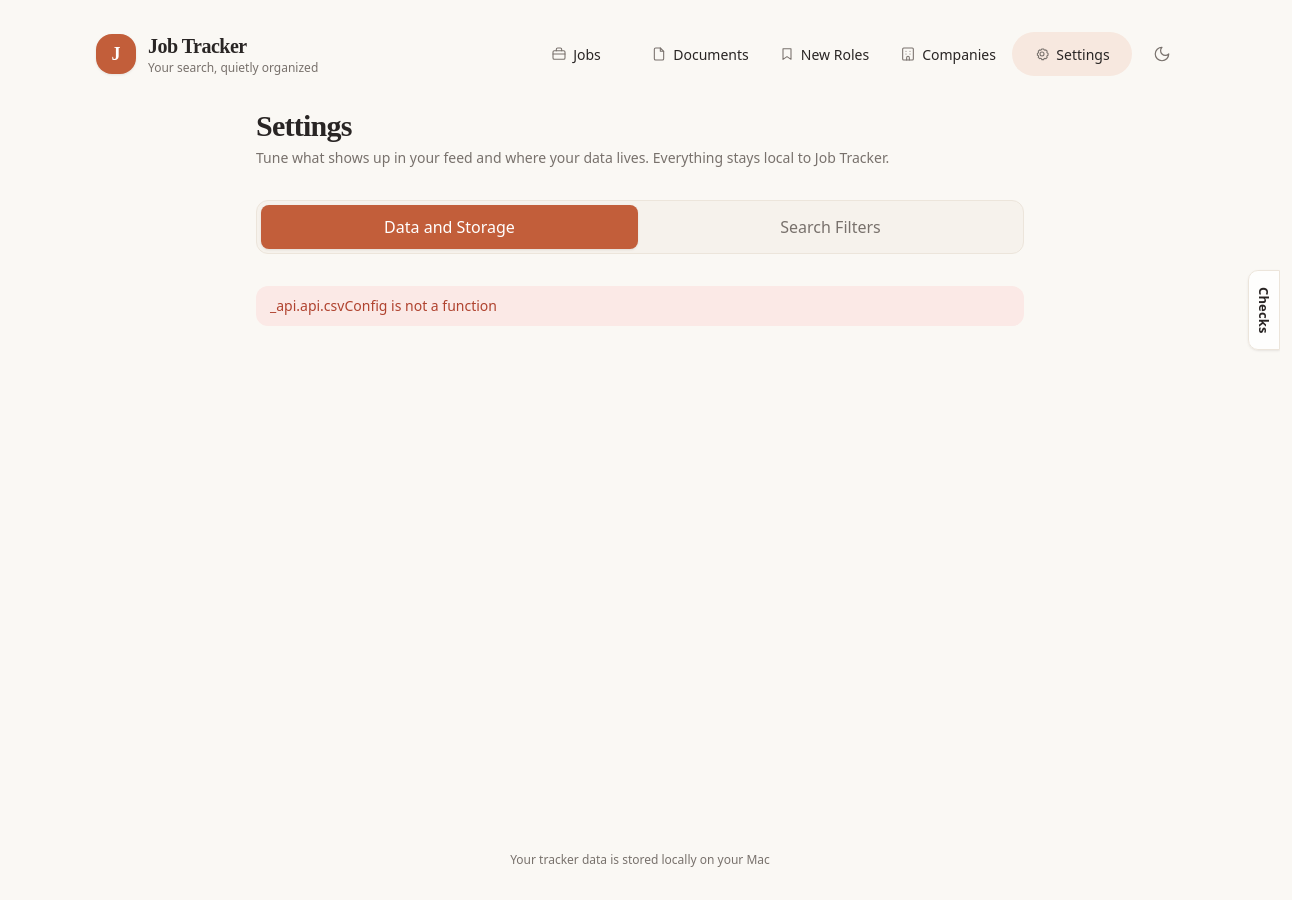
it: top navigation while a posting run is displayed › keeps error notices visible in the header when the run panel is hidden
Click the button "Checks".
click(1264, 310)  # box [1248,270,1280,350]
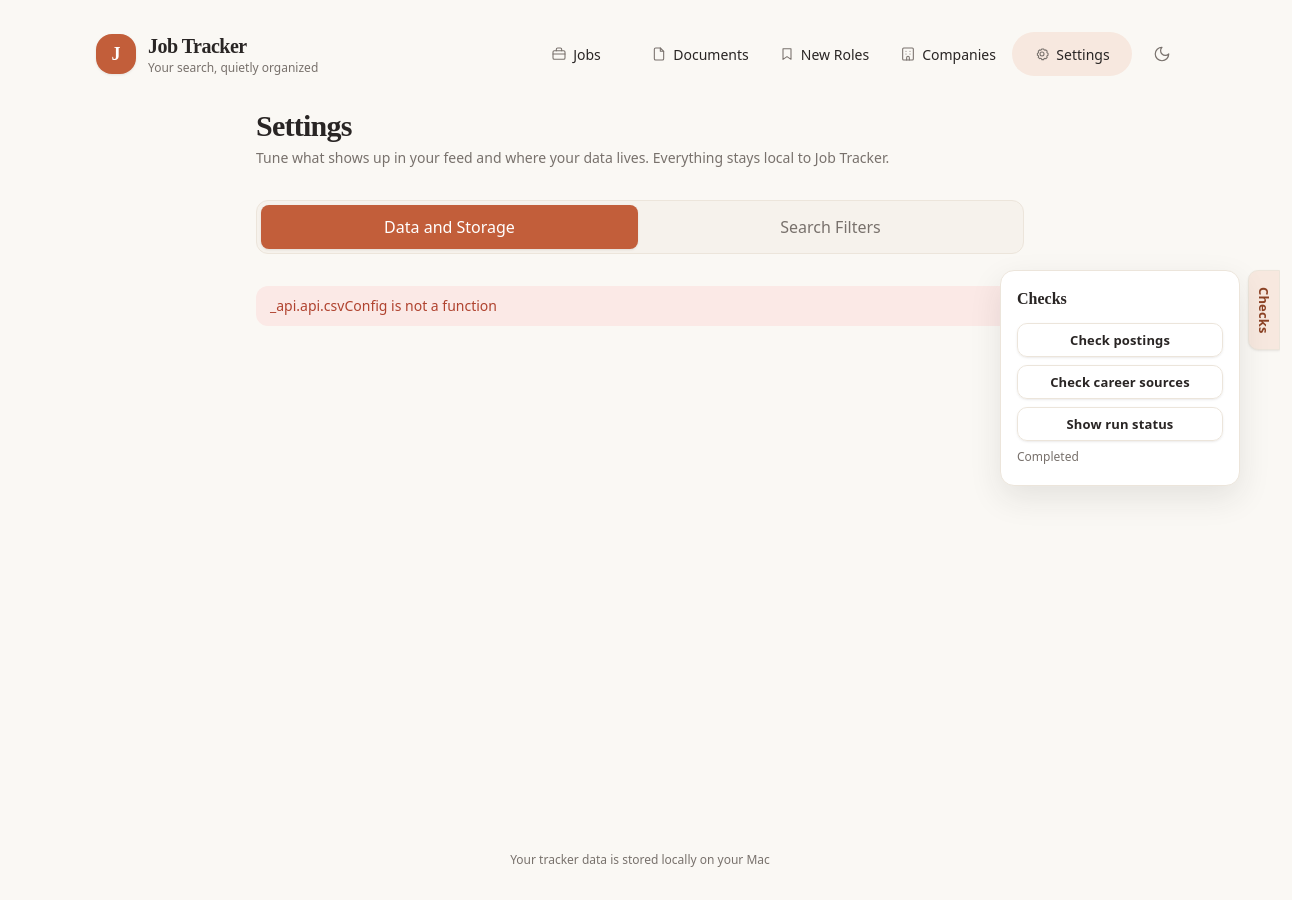
Click the button "Show run status".
click(1120, 424)  # box [1017,407,1223,441]
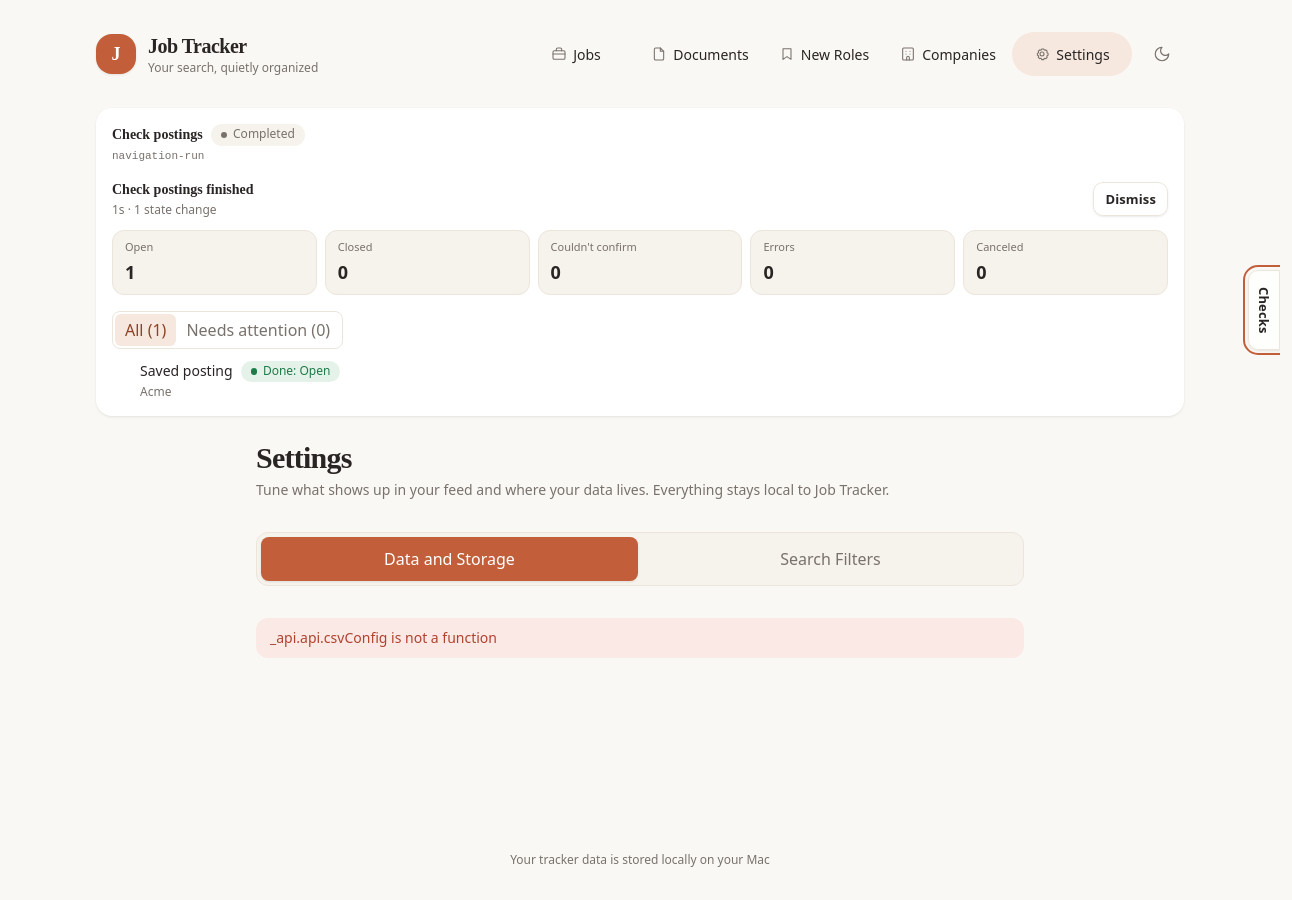
Click the link to "/documents".
click(700, 54)  # box [651,44,749,64]
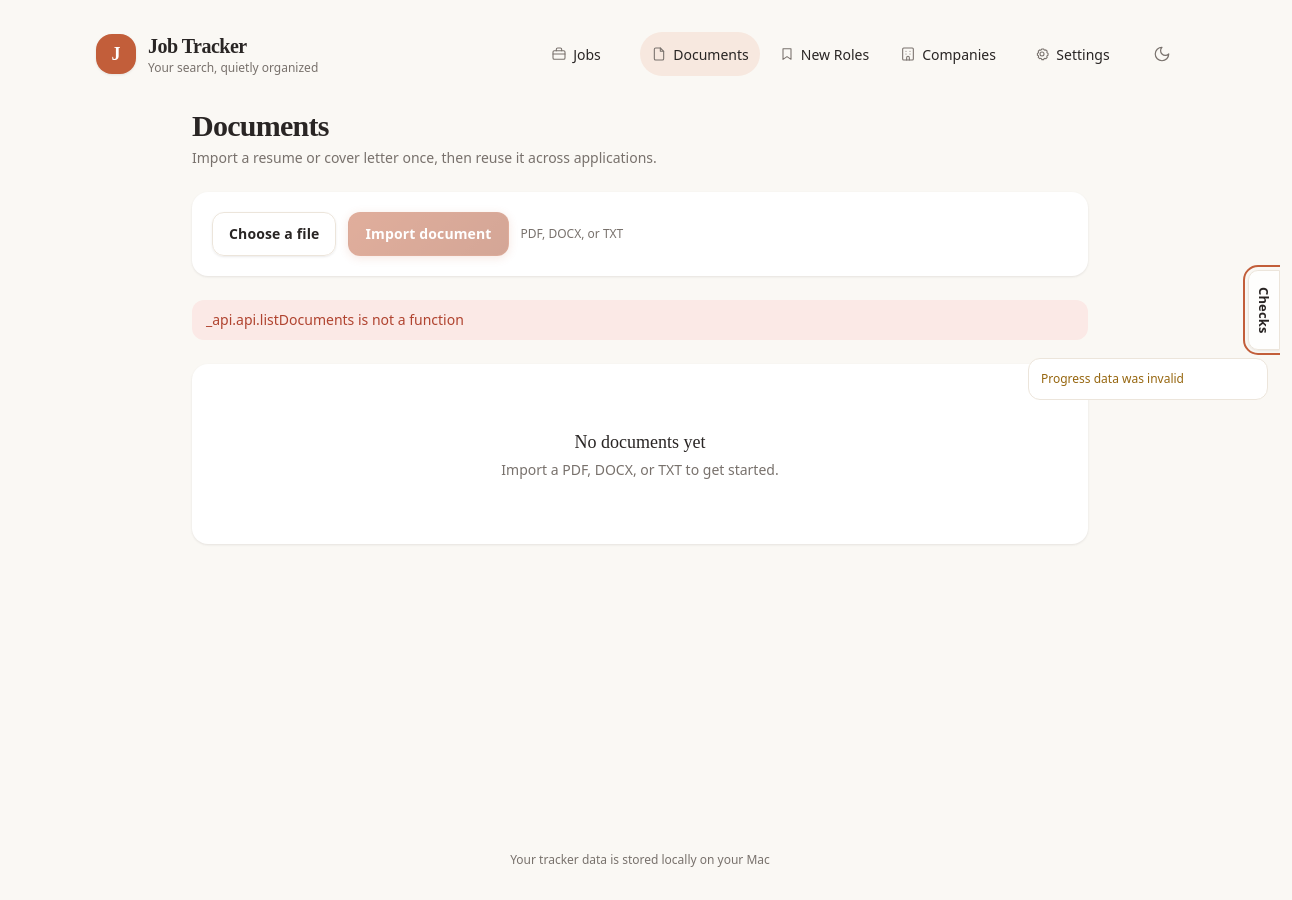
Check: the header shows "Progress data was invalid", box [1041,370,1184,387]
